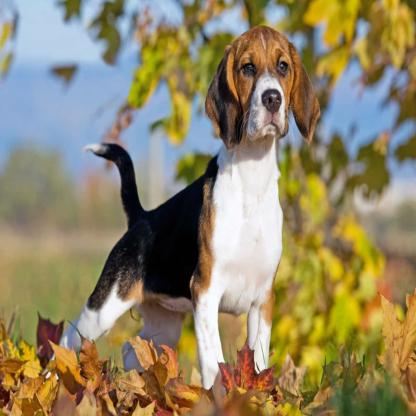Bigl: (52, 26, 322, 388)
